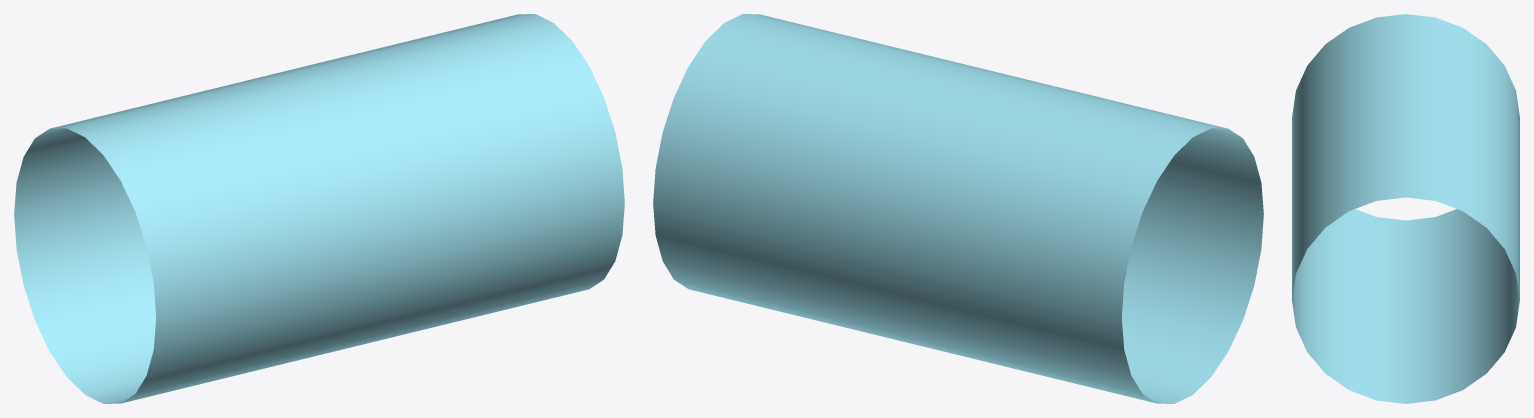
3 renders of one model, left to right at view 1: azimuth 30°, elevation 25°; view 2: azimuth 150°, elevation 25°; view 3: azimuth 270°, elevation 25°, orthographic. The views are drawn at different scales.
Visible parts, largest first — view 1: tube; view 2: tube; view 3: tube.
Boxes of the visible parts, x1,y1,x2,y2 form: tube: (14, 14, 624, 403); tube: (653, 14, 1263, 403); tube: (1292, 14, 1519, 403).
Size of the model in its own units: 1.6 by 0.84 by 0.84.
